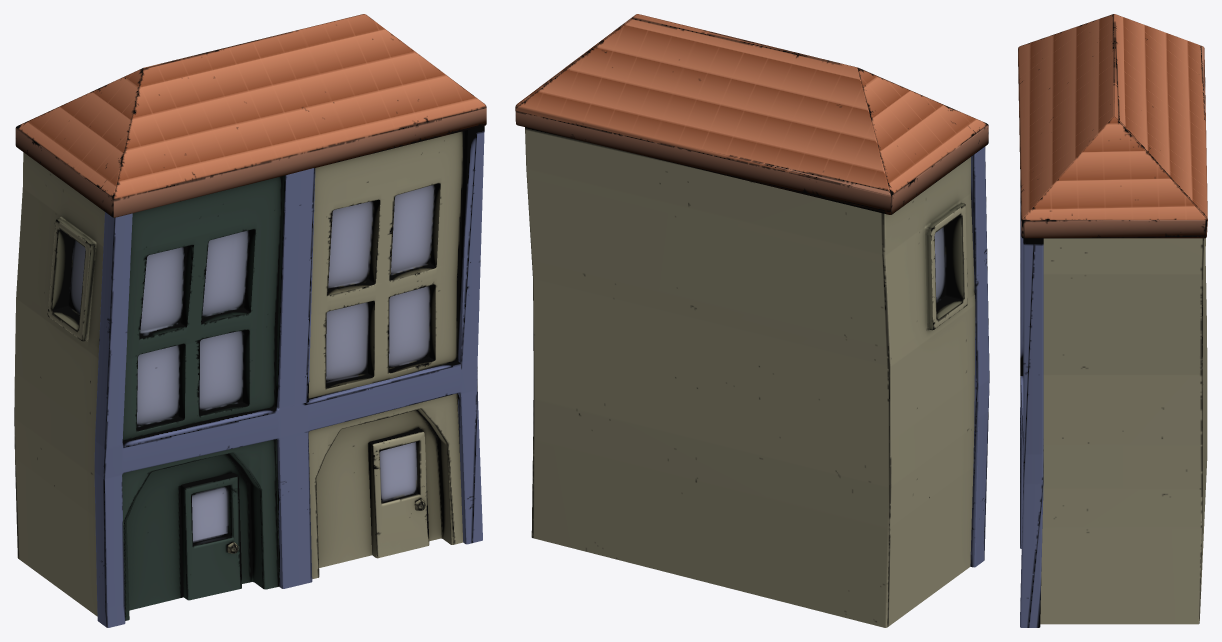
The model's file is beveled house 4 V3.fbx.
The picture shows the model from 3 angles, left to right: view 1: azimuth 30°, elevation 25°; view 2: azimuth 150°, elevation 25°; view 3: azimuth 270°, elevation 25°; orthographic projection. The views are drawn at different scales.
Parts seen in each view (by area): view 1: beveled_house; view 2: beveled_house; view 3: beveled_house.
Part boxes in pixels (x1,y1,x2,y2): beveled_house: [14, 14, 486, 627]; beveled_house: [515, 14, 989, 627]; beveled_house: [1018, 14, 1207, 627].
Size of the model in its own units: 4.02 by 5.11 by 1.83.
